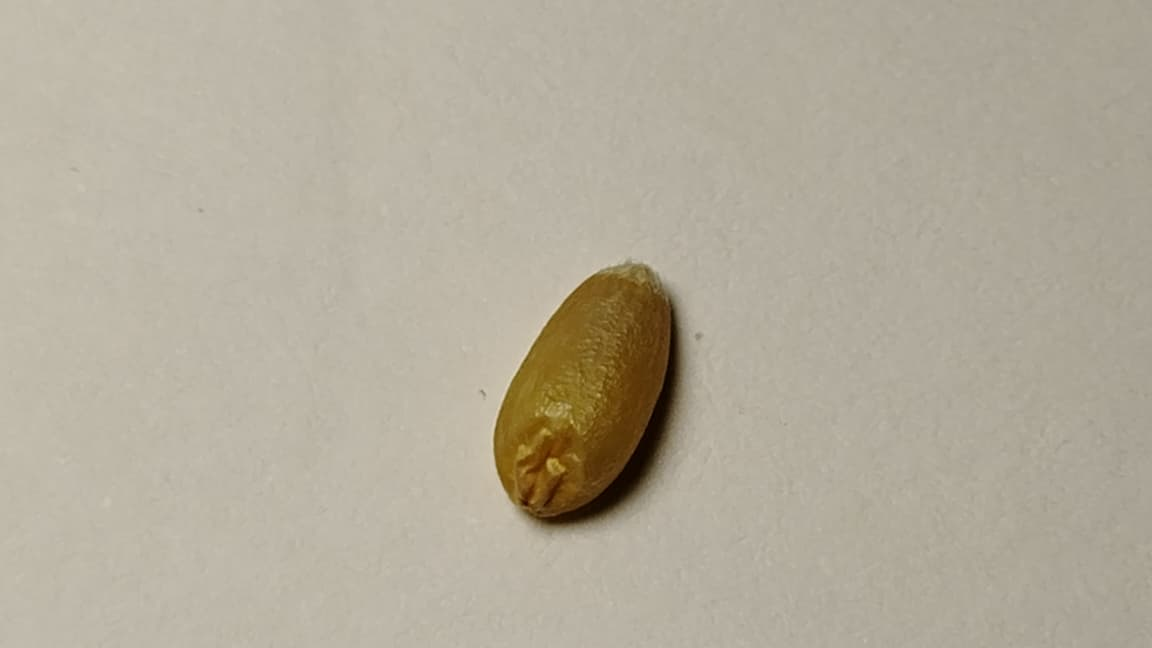healthy: (493, 260, 672, 517)
